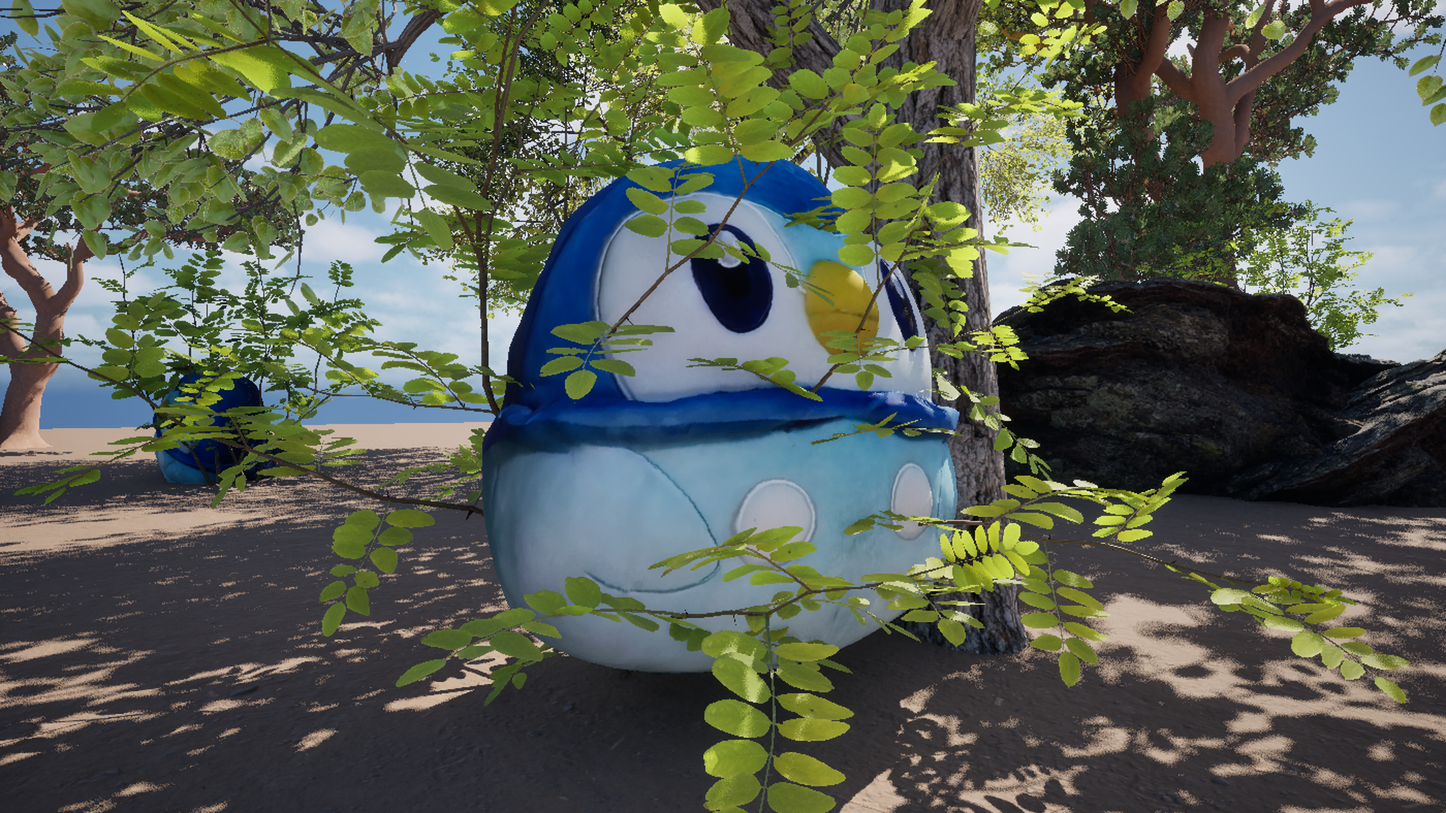Piplup: (350, 0, 1099, 813)
